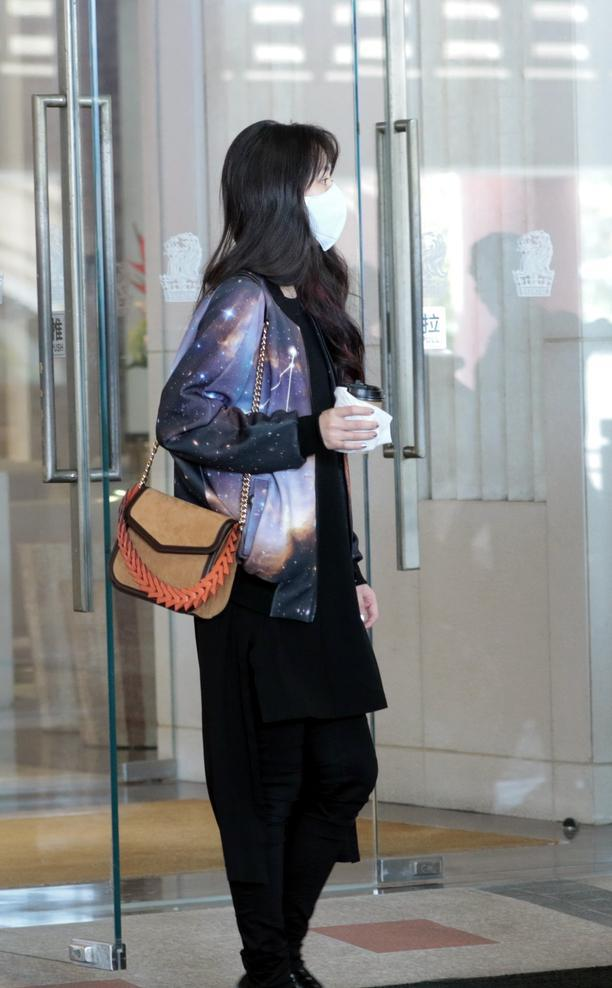OK: (285, 173, 357, 249)
